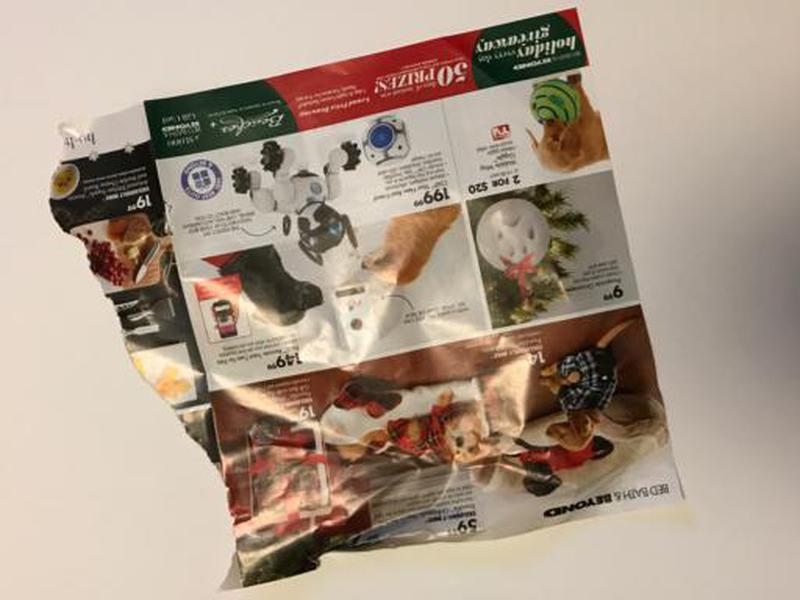paper: (44, 7, 690, 594)
